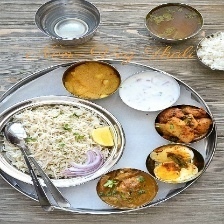dal: (62, 59, 119, 98)
